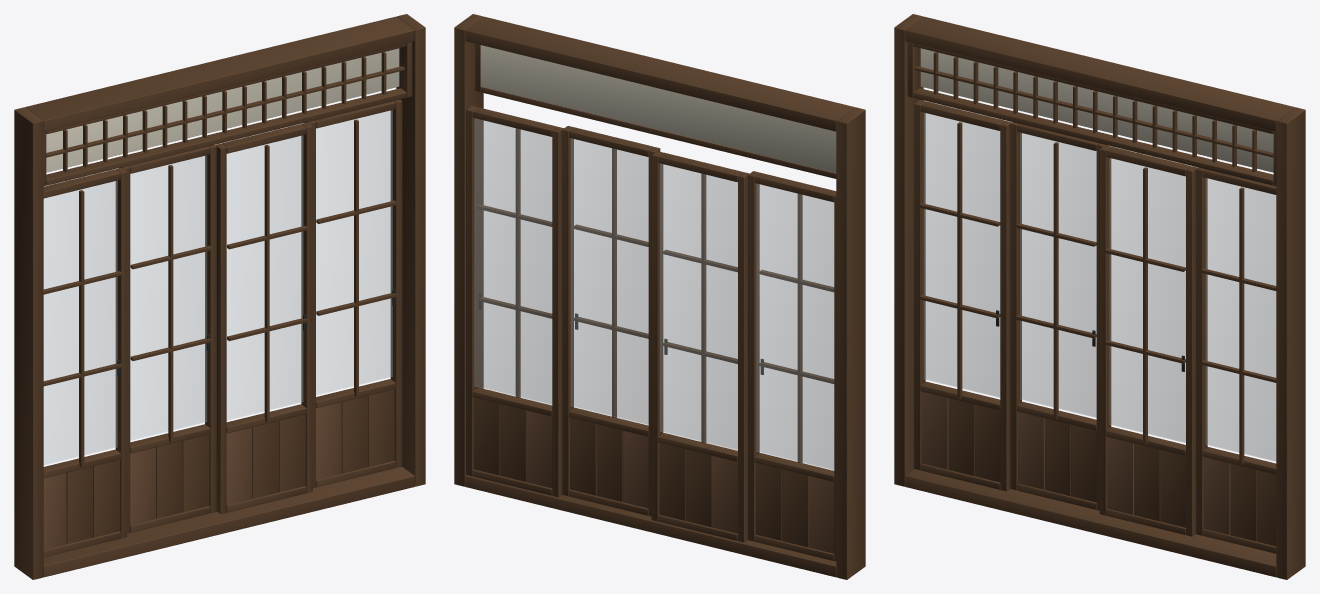
Rendered from kominka-engawa-glass-door-01.glb.
3 renders of one model, left to right at view 1: azimuth 30°, elevation 25°; view 2: azimuth 150°, elevation 25°; view 3: azimuth 330°, elevation 25°, orthographic.
Visible parts, largest first — view 1: kominka-engawa-glass-door-01; view 2: kominka-engawa-glass-door-01; view 3: kominka-engawa-glass-door-01.
Boxes of the visible parts, <box> form: kominka-engawa-glass-door-01: <box>14,14,425,579</box>; kominka-engawa-glass-door-01: <box>454,14,865,579</box>; kominka-engawa-glass-door-01: <box>894,14,1305,579</box>.
Bounding box in the file's own units: 1.8 × 2 × 0.15.
